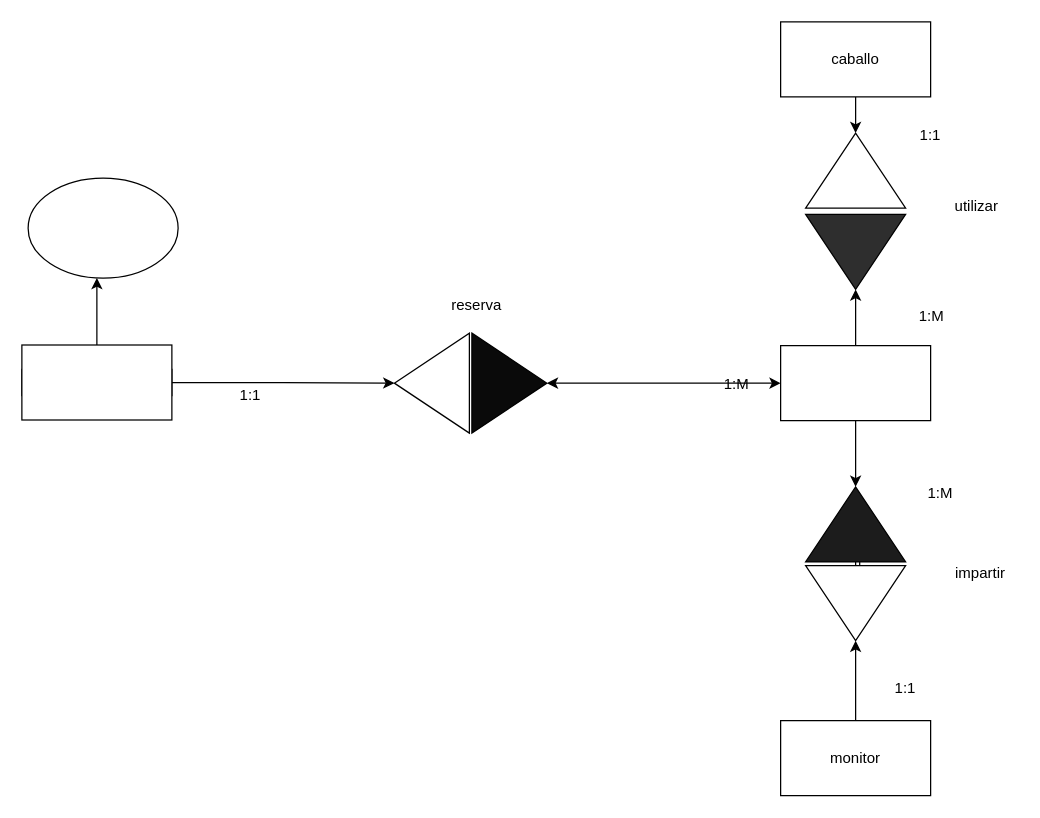
Image size: 1040x818. Some labels were removed from this diagram. The centre of each missing label's shape, as x and y in pixels:
"alumno" goes at (96,382).
"sesion" goes at (855,382).
